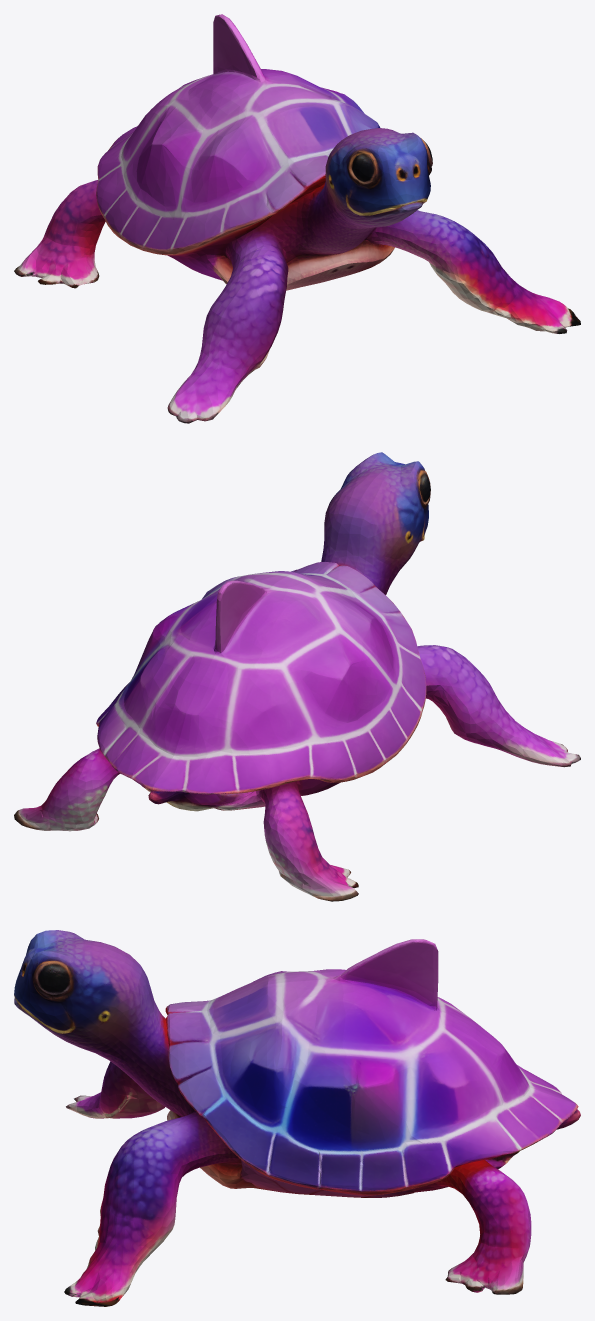
Rendered from vox.glb.
3 views of the same model, one above another, from view 1: azimuth 30°, elevation 25°; view 2: azimuth 150°, elevation 25°; view 3: azimuth 270°, elevation 25° (orthographic). The views are drawn at different scales.
Parts seen in each view (by area): view 1: world; view 2: world; view 3: world.
Part boxes in pixels (<box>): world: <box>14,14,580,423</box>; world: <box>14,452,580,901</box>; world: <box>14,930,580,1306</box>.
Size of the model in its own units: 0.8924 by 0.5262 by 1.
1 material, 1 textured.
